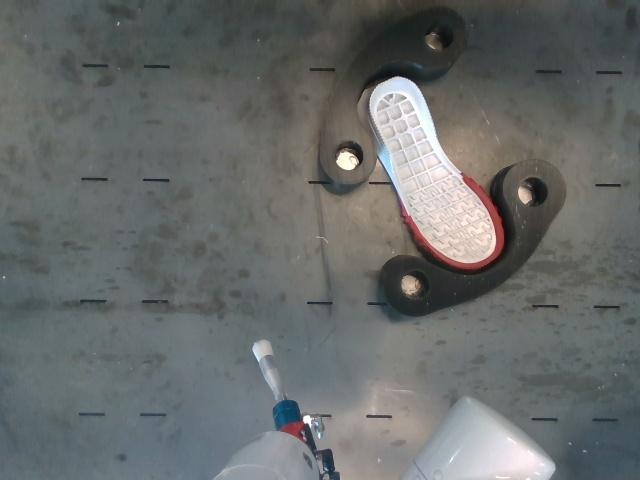shoes: (370, 78, 504, 269)
